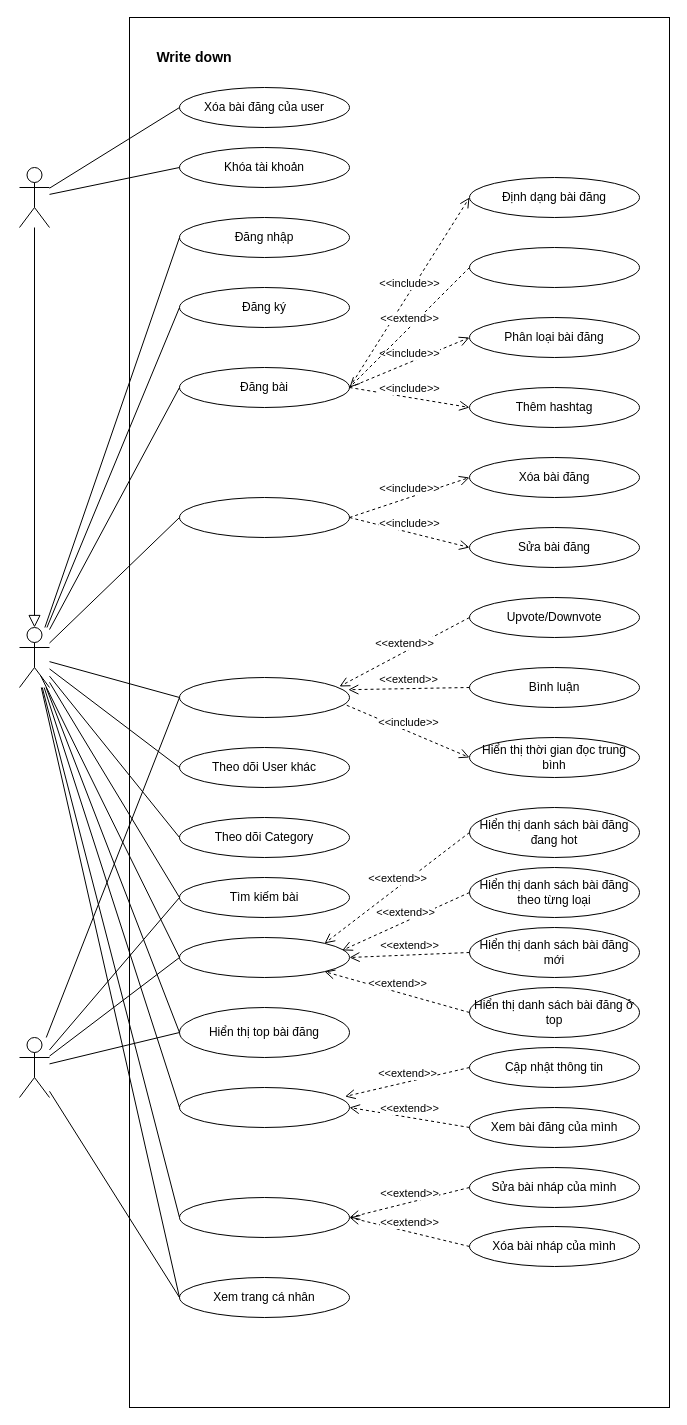
Image size: 687x1425. Some labels were removed from this diagram. The centre of each missing label's shape, as x and y in pixels:
Admin: pixel 34 197
Hiển thị danh sách bài đăng: pixel 264 957
Khách: pixel 34 1067
Quản lý bài đăng của mình: pixel 264 517
Quản lý trang cá nhân: pixel 264 1107
User: pixel 34 657
Xem nháp của mình: pixel 264 1217
Đăng ảnh: pixel 554 267
Đọc bài: pixel 264 697
